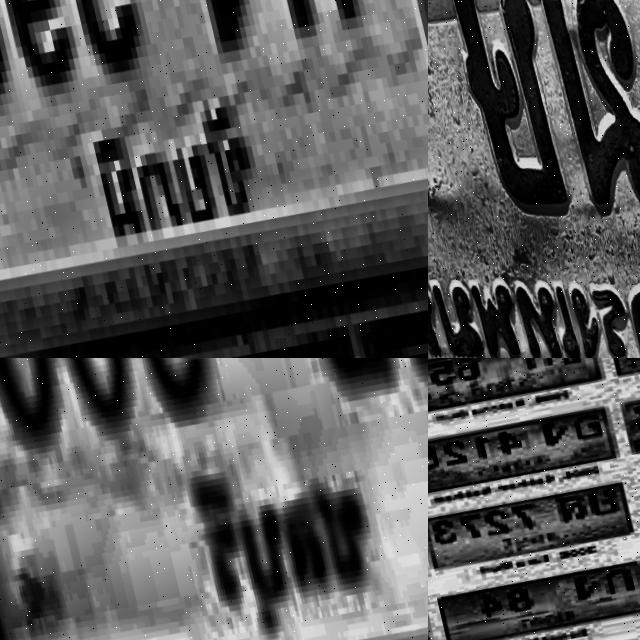license-plate: (0, 0, 428, 358), (0, 358, 428, 640), (428, 0, 640, 358), (428, 468, 637, 575), (428, 389, 619, 502), (428, 541, 640, 640), (428, 358, 607, 424)
